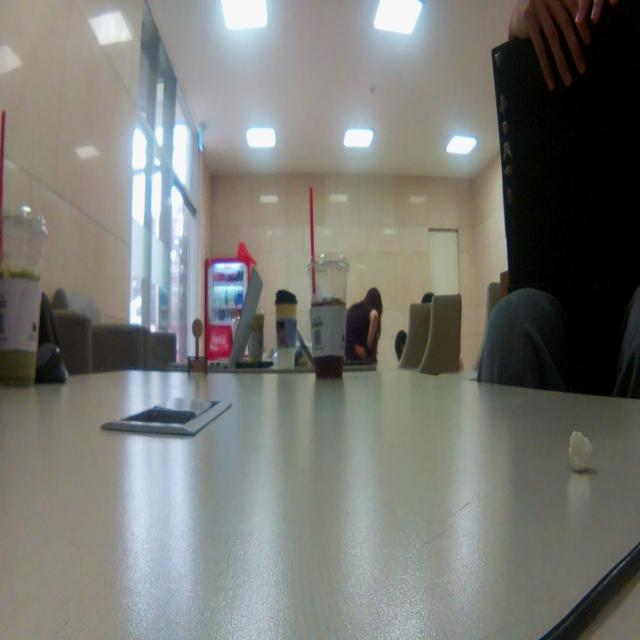target: (188, 319, 207, 374)
